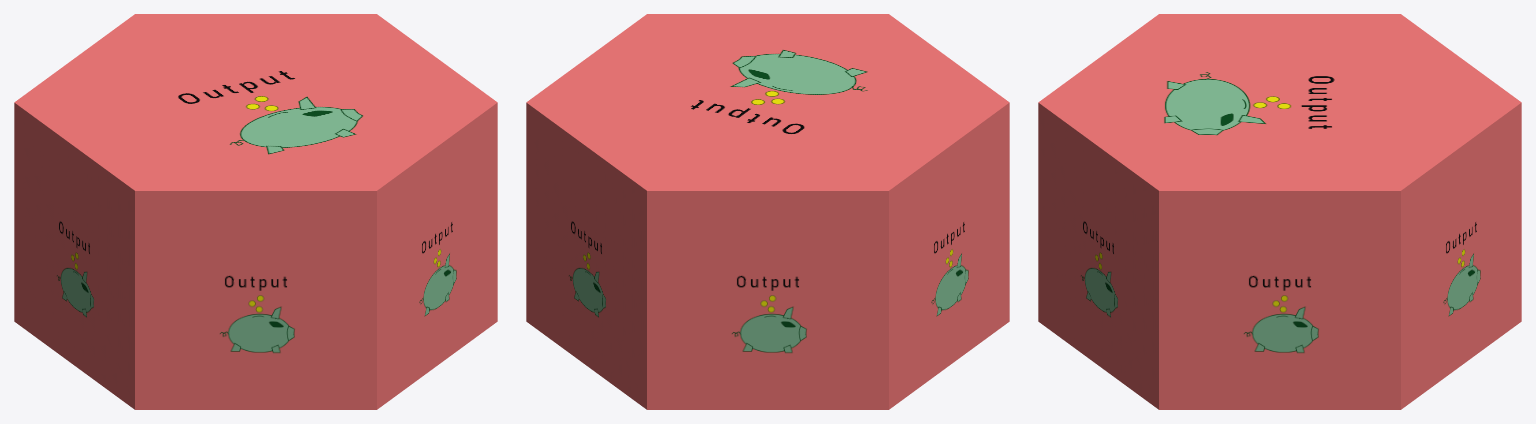
Rendered from Tile_Output.fbx.
The picture shows the model from 3 angles, left to right: view 1: azimuth 30°, elevation 25°; view 2: azimuth 150°, elevation 25°; view 3: azimuth 270°, elevation 25°; orthographic projection.
Parts seen in each view (by area): view 1: Tile_Output; view 2: Tile_Output; view 3: Tile_Output.
Boxes of the visible parts, box(x1,y1,x2,y2) form: Tile_Output: box(14, 14, 497, 409); Tile_Output: box(526, 14, 1009, 409); Tile_Output: box(1038, 14, 1521, 409).
Bounding box in the file's own units: 1.73 × 1 × 2.
